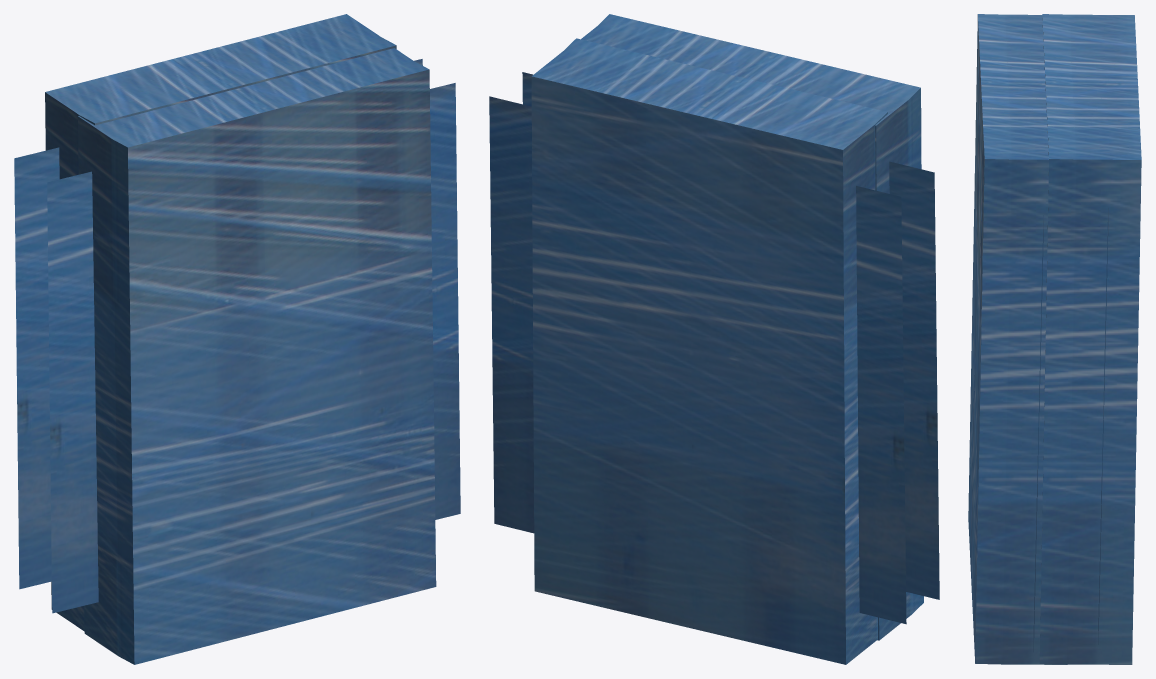
The model's file is door warp.fbx.
3 views of the same model, side by side, from view 1: azimuth 30°, elevation 25°; view 2: azimuth 150°, elevation 25°; view 3: azimuth 270°, elevation 25° (orthographic). The views are drawn at different scales.
Parts seen in each view (by area): view 1: Plane.000, Plane.002; view 2: Plane.002, Plane.000; view 3: Plane.002, Plane.000.
Part boxes in pixels (x1,y1,x2,y2): Plane.000: (47, 48, 460, 664); Plane.002: (14, 14, 422, 631); Plane.002: (489, 38, 906, 664); Plane.000: (522, 14, 939, 640); Plane.002: (1039, 14, 1141, 664); Plane.000: (968, 14, 1067, 664).
Size of the model in its own units: 180 by 218 by 67.3.
